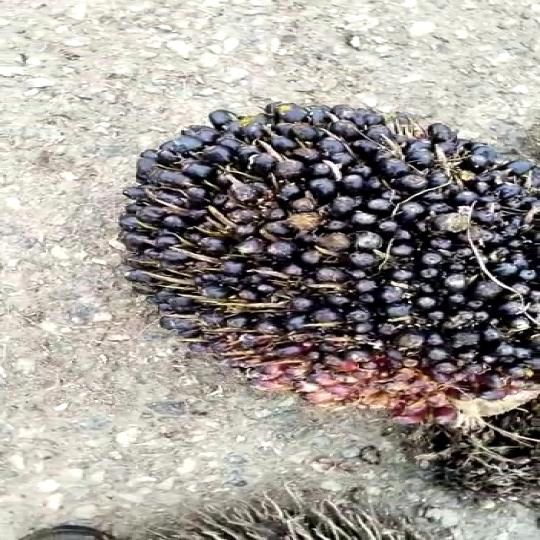mentah: (99, 90, 540, 417)
